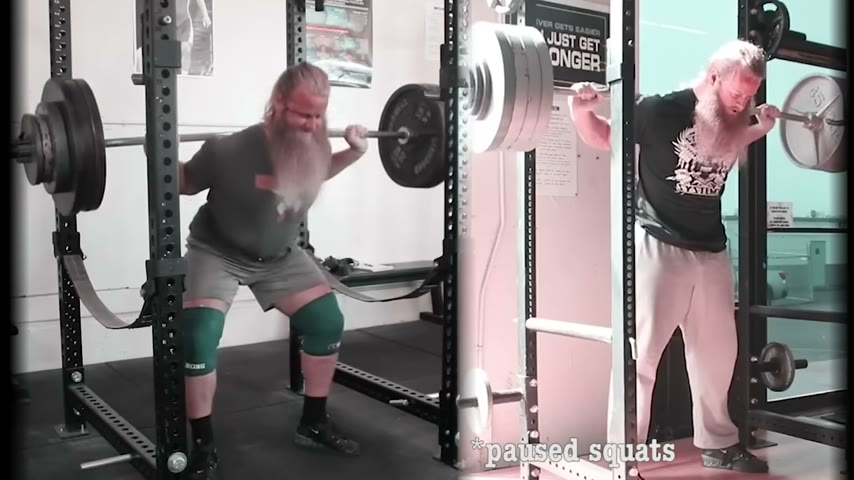barbell_plate_side: (372, 70, 454, 196)
